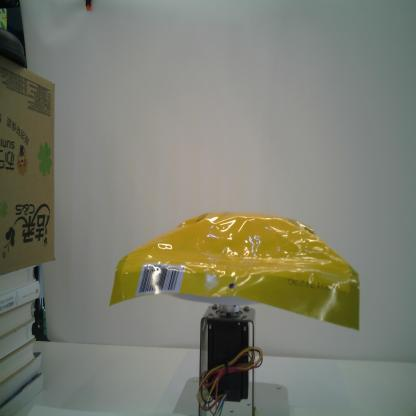Dried Food: (106, 208, 362, 331)
